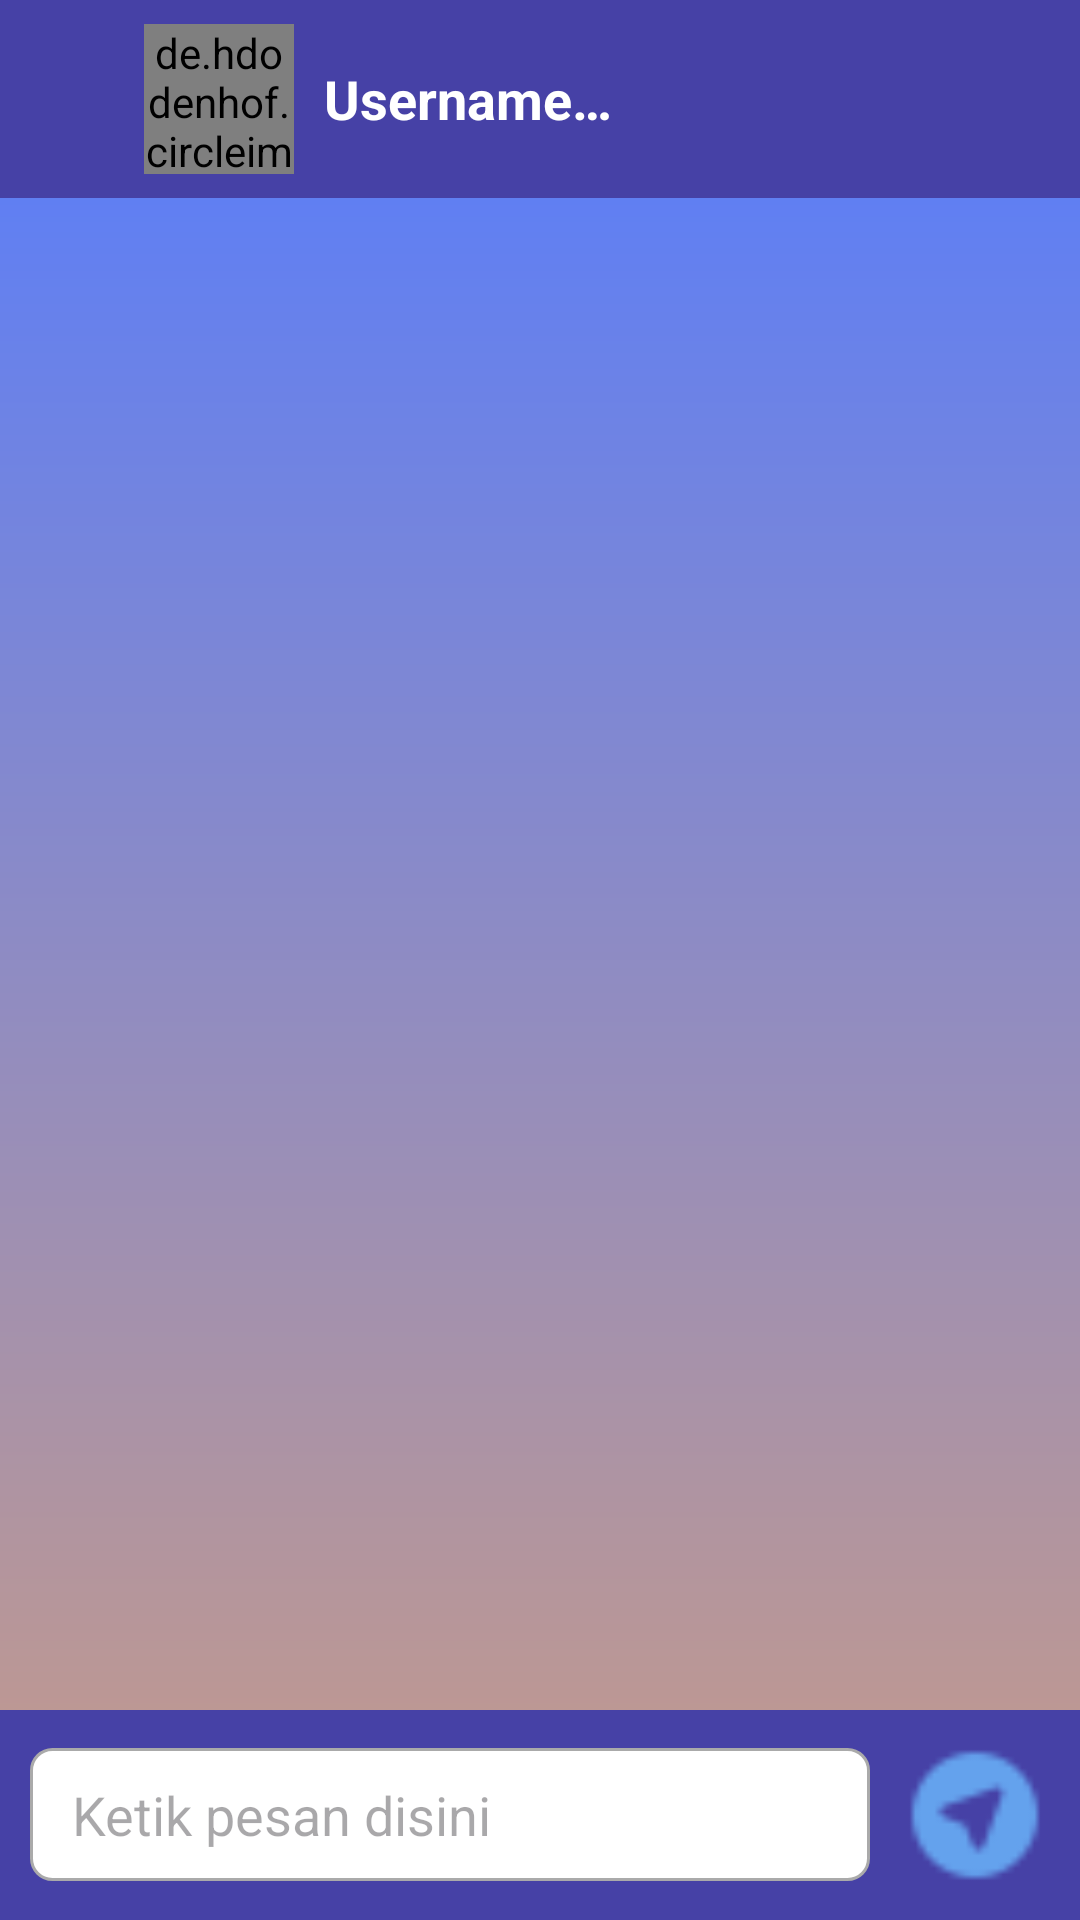

Icons on this 1080*1920 Android screen, each with its box as bbox(x1, y1, x2, y2):
navigasi: bbox(911, 1751, 1039, 1879)
